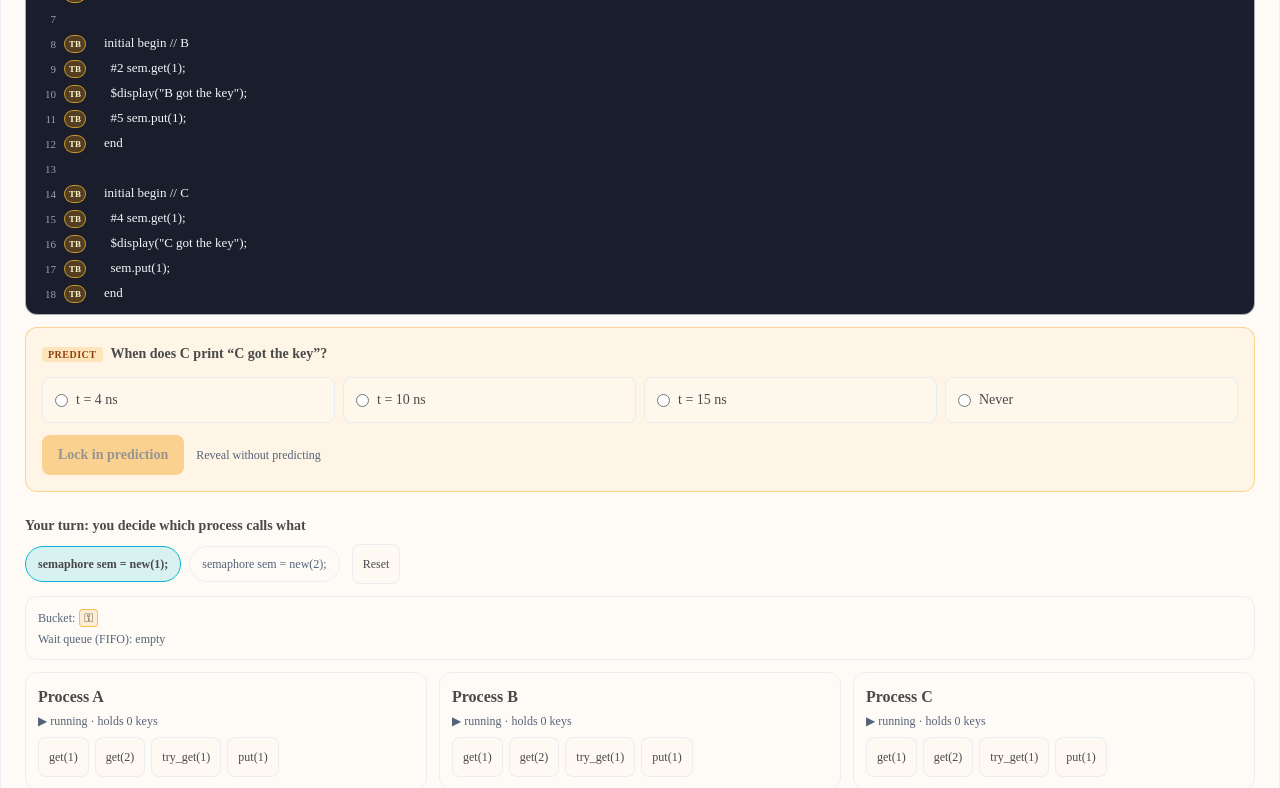
Test: MailboxSemaphoreGame › gates the scripted FIFO run behind a prediction
(page scrolled)
Click the radio button labelled "t = 10 ns": (362, 400) 356,394 -> 369,407
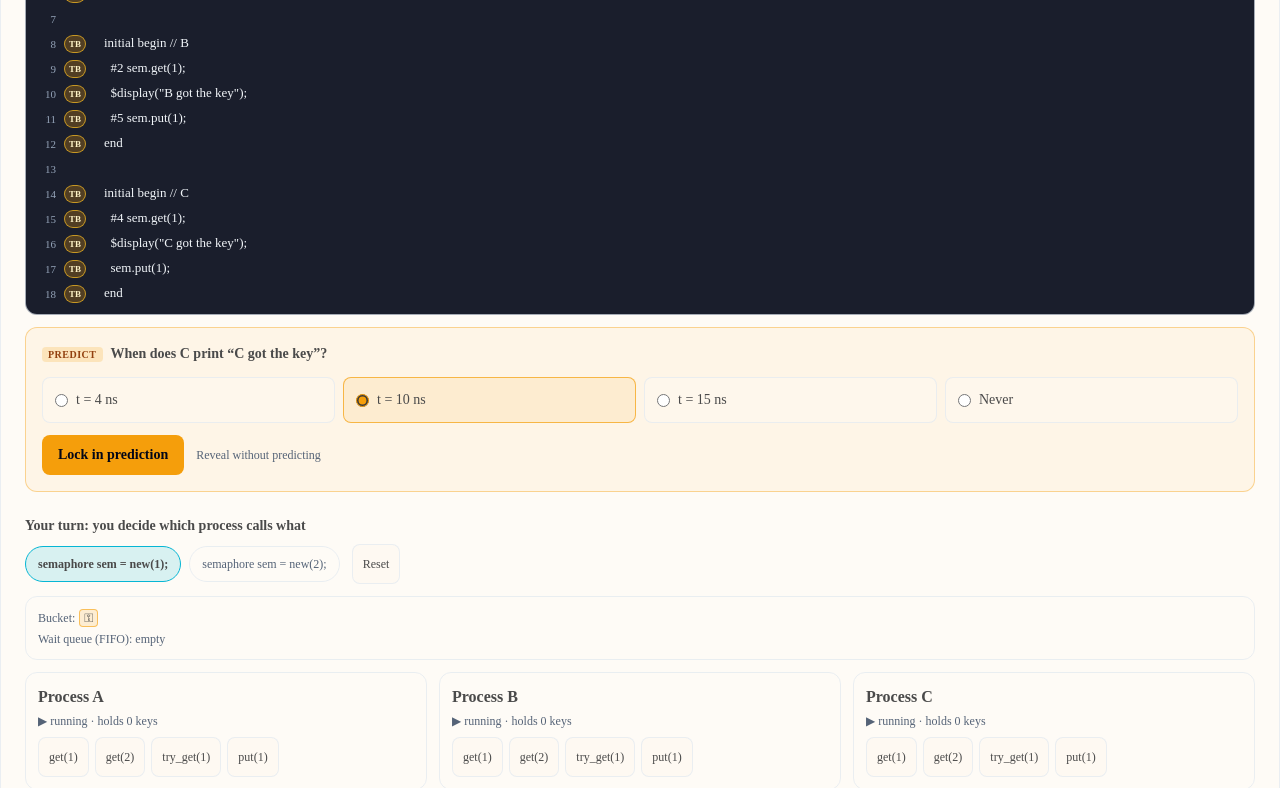
Click the button "Lock in prediction": (113, 455) 42,435 -> 184,475
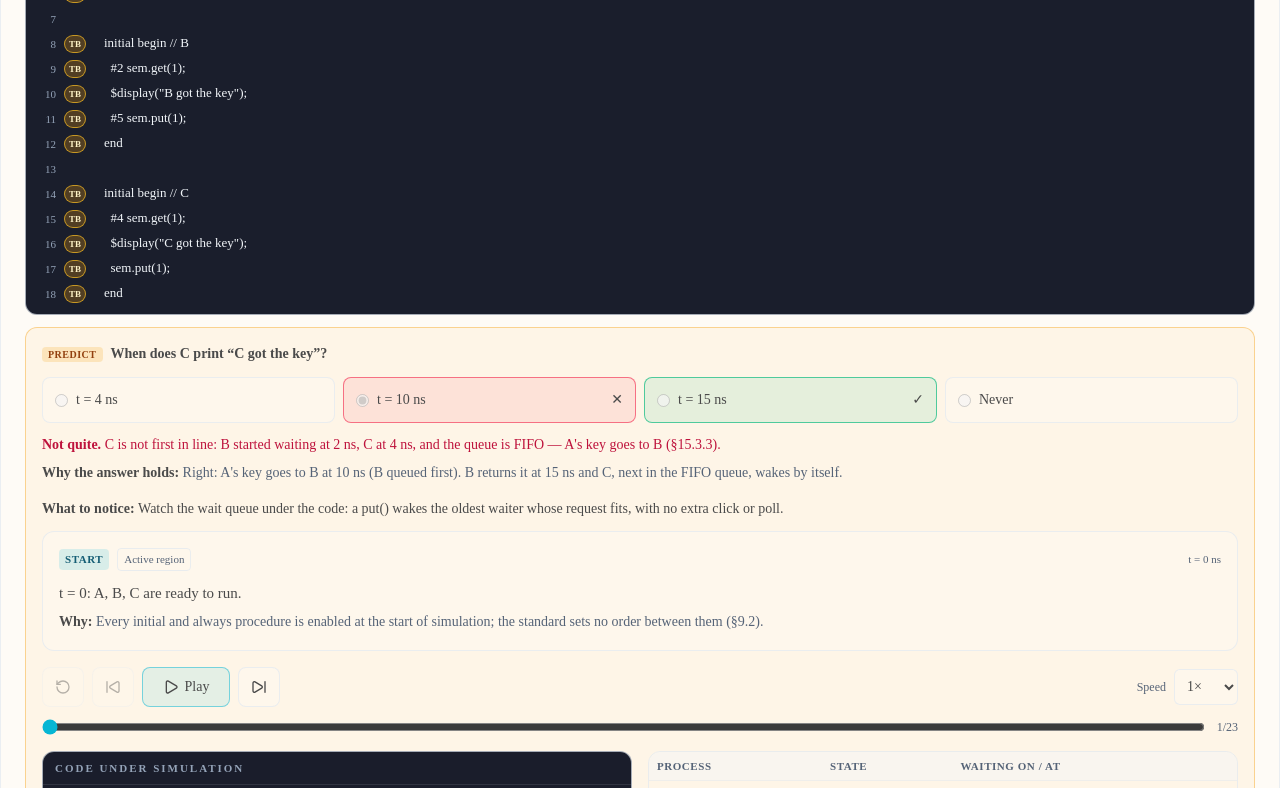
Expected: the text "C is not first in line" is shown, 105,437 -> 721,452
Expected: the element named "process step playback controls" is shown, 42,667 -> 1238,735
